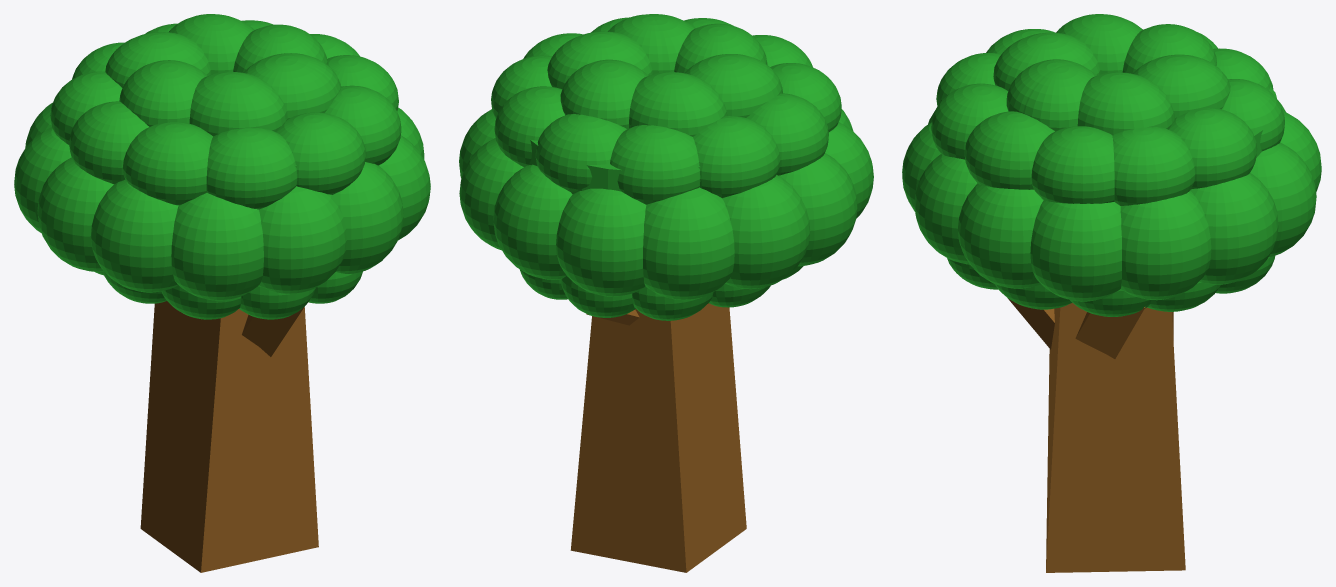
File: tree.glb
3 renders of one model, left to right at view 1: azimuth 30°, elevation 25°; view 2: azimuth 150°, elevation 25°; view 3: azimuth 270°, elevation 25°, orthographic.
Parts seen in each view (by area): view 1: Sphere, Cube, Sphere.001, Sphere.003, Sphere.002, Cube.001; view 2: Sphere, Cube, Sphere.001, Sphere.003, Sphere.002, Cylinder; view 3: Sphere, Cube, Sphere.001, Sphere.003, Sphere.002, Cube.003, Cube.001.
Boxes of the visible parts, <box> form: Sphere: <box>14,102,430,300</box>; Cube: <box>140,301,318,572</box>; Sphere.001: <box>50,20,401,209</box>; Sphere.003: <box>105,14,341,136</box>; Sphere.002: <box>94,271,362,319</box>; Cube.001: <box>242,306,304,356</box>; Sphere: <box>459,109,873,300</box>; Cube: <box>570,303,746,572</box>; Sphere.001: <box>491,17,841,204</box>; Sphere.003: <box>547,14,782,136</box>; Sphere.002: <box>519,266,803,320</box>; Cylinder: <box>529,140,700,194</box>; Sphere: <box>902,100,1321,301</box>; Cube: <box>1046,303,1185,572</box>; Sphere.001: <box>931,29,1284,205</box>; Sphere.003: <box>993,14,1230,134</box>; Sphere.002: <box>947,255,1275,316</box>; Cube.003: <box>1075,307,1145,358</box>; Cube.001: <box>1008,298,1054,349</box>.
Size of the model in its own units: 6.9 by 8.95 by 6.9.
